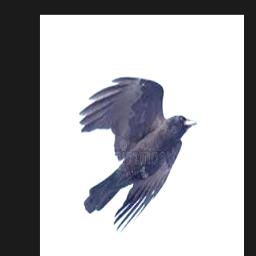Crow: (79, 74, 198, 231)
